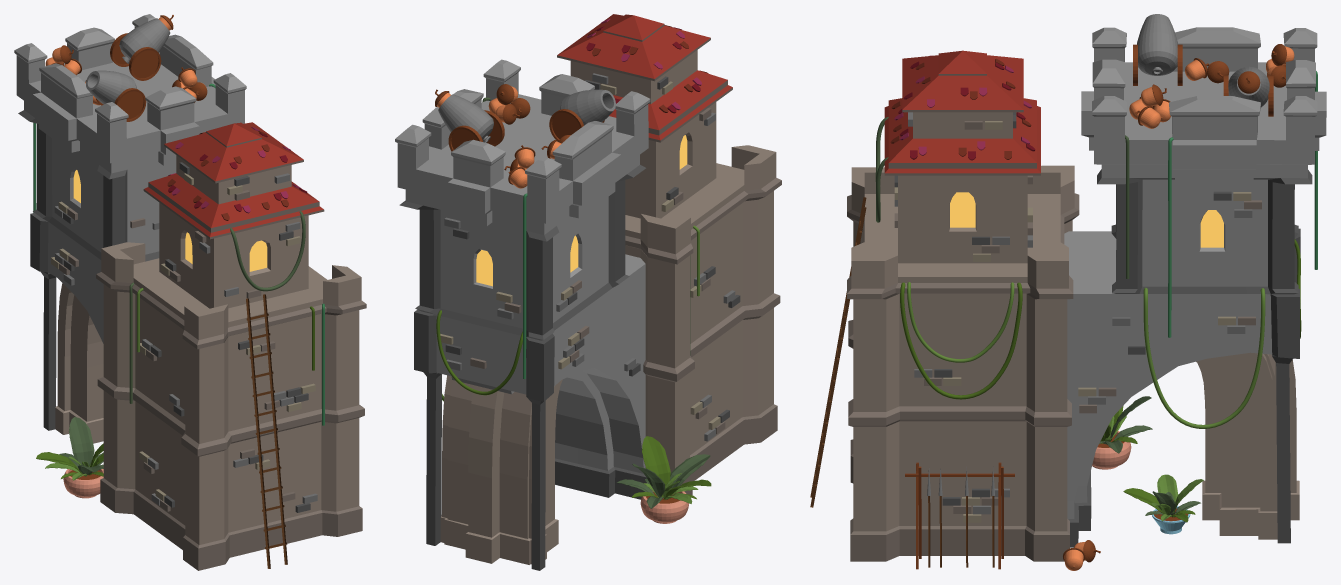
The model's file is wache.glb.
The picture shows the model from 3 angles, left to right: view 1: azimuth 30°, elevation 25°; view 2: azimuth 150°, elevation 25°; view 3: azimuth 270°, elevation 25°; orthographic projection. The views are drawn at different scales.
Parts seen in each view (by area): view 1: Cube.002, Cube.001, Cube, Cube.133, Cylinder.001, Cylinder.004, Plane.016, Cylinder.002, Cylinder.020, BezierCurve.004, Cylinder.003, BezierCurve.010; view 2: Cube.001, Cube.002, Cube, Cylinder.001, Cylinder.004, Cylinder.020, Plane.017, Cylinder.005, BezierCurve.003, BezierCurve.007, Plane.018, Cylinder; view 3: Cube.002, Cube.001, Cube, Cylinder.004, BezierCurve.002, Cube.133, BezierCurve, BezierCurve.001, Cylinder.001, BezierCurve.006, Cylinder.020.
Part boxes in pixels (left/top/right/bottom): Cube.002: left=96, top=122, right=366, bottom=570; Cube.001: left=14, top=14, right=246, bottom=430; Cube: left=55, top=283, right=103, bottom=443; Cube.133: left=246, top=294, right=287, bottom=568; Cylinder.001: left=119, top=18, right=170, bottom=63; Cylinder.004: left=86, top=70, right=136, bottom=104; Plane.016: left=69, top=417, right=94, bottom=466; Cylinder.002: left=129, top=47, right=161, bottom=80; Cylinder.020: left=63, top=469, right=103, bottom=498; BezierCurve.004: left=230, top=211, right=305, bottom=291; Cylinder.003: left=114, top=88, right=146, bottom=121; BezierCurve.010: left=129, top=282, right=134, bottom=403; Cube.001: left=395, top=59, right=650, bottom=570; Cube.002: left=557, top=14, right=781, bottom=495; Cube: left=440, top=375, right=562, bottom=564; Cylinder.001: left=438, top=94, right=493, bottom=142; Cylinder.004: left=560, top=89, right=615, bottom=125; Cylinder.020: left=640, top=490, right=688, bottom=523; Plane.017: left=642, top=436, right=670, bottom=497; Cylinder.005: left=549, top=109, right=583, bottom=141; BezierCurve.003: left=436, top=310, right=522, bottom=395; BezierCurve.007: left=523, top=193, right=527, bottom=379; Plane.018: left=669, top=454, right=710, bottom=489; Cylinder: left=448, top=125, right=482, bottom=151; Cube.002: left=847, top=50, right=1079, bottom=561; Cube.001: left=1064, top=27, right=1326, bottom=547; Cube: left=1196, top=352, right=1299, bottom=539; Cylinder.004: left=1137, top=14, right=1177, bottom=75; BezierCurve.002: left=1143, top=287, right=1265, bottom=428; Cube.133: left=810, top=197, right=866, bottom=507; BezierCurve: left=900, top=282, right=1022, bottom=399; BezierCurve.001: left=907, top=282, right=1014, bottom=362; Cylinder.001: left=1228, top=66, right=1269, bottom=107; BezierCurve.006: left=1168, top=137, right=1173, bottom=337; Cylinder.020: left=1092, top=431, right=1131, bottom=469.
Bounding box in the file's own units: 11.05 × 17.79 × 17.59.
